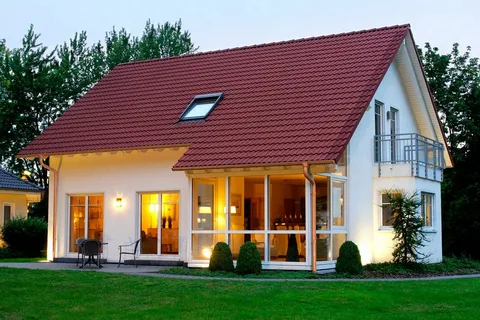private_hause: (43, 56, 444, 264)
